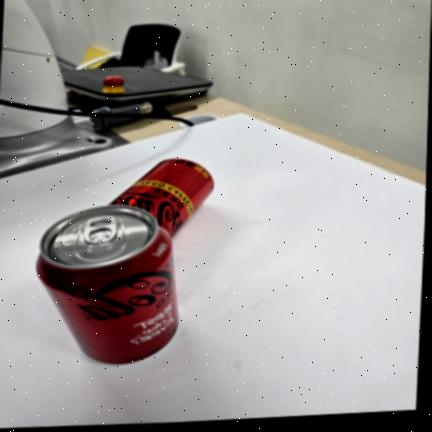can_coke_decaf: (109, 158, 214, 236)
can_coke_zero: (37, 205, 178, 363)
